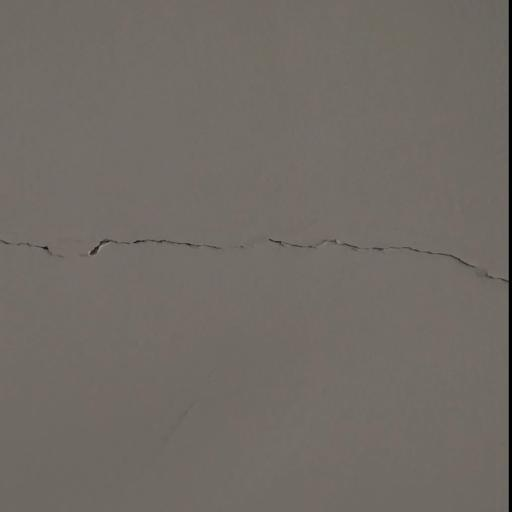minor_crack: (0, 216, 508, 289)
